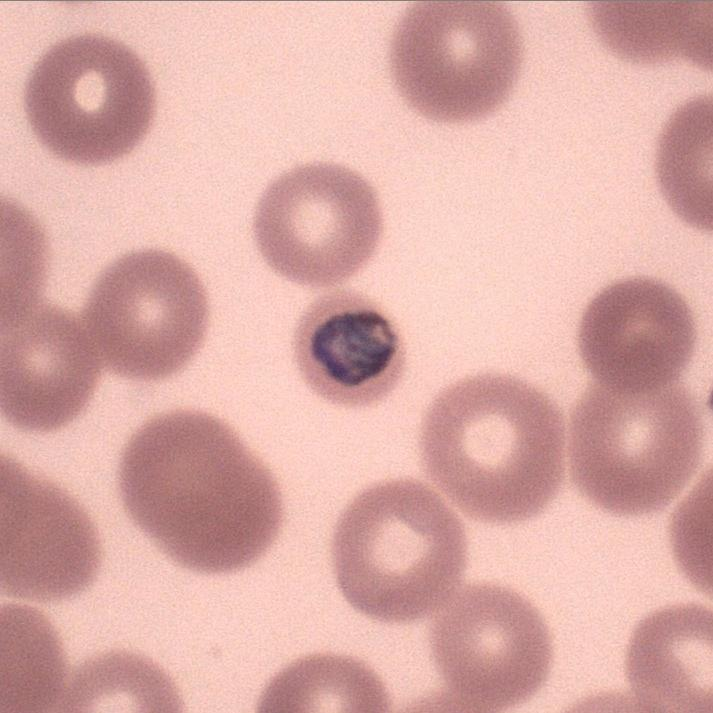Infected: (292, 291, 411, 406)
Uninfected: (118, 411, 283, 572), (423, 372, 566, 523), (335, 479, 469, 625), (570, 379, 700, 519), (393, 0, 521, 128), (80, 249, 208, 376), (28, 37, 153, 164), (252, 164, 382, 284), (437, 579, 553, 708), (580, 281, 699, 386)
